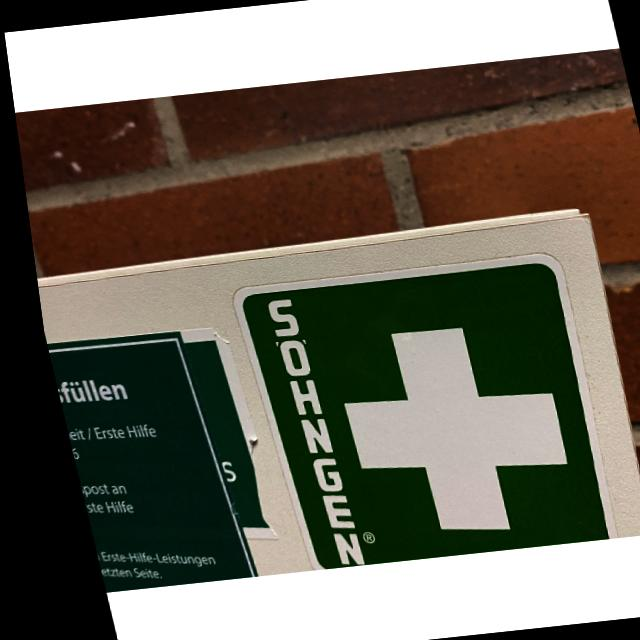first aid kit: (215, 252, 616, 572)
